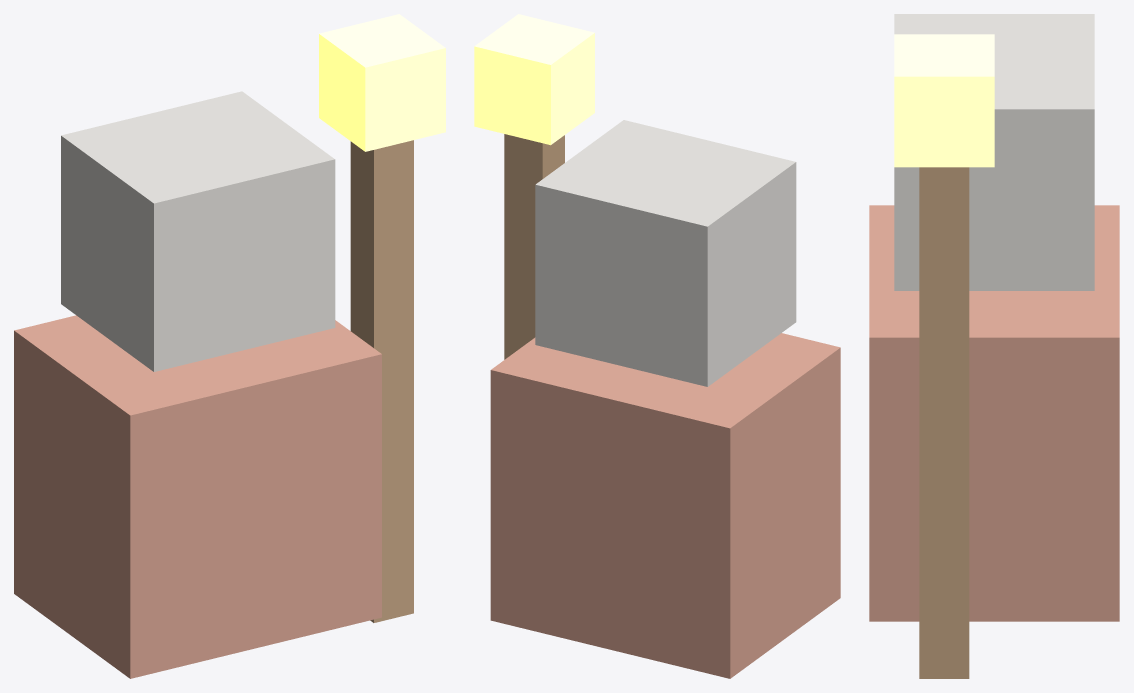
Rendered from warden.glb.
3 renders of one model, left to right at view 1: azimuth 30°, elevation 25°; view 2: azimuth 150°, elevation 25°; view 3: azimuth 270°, elevation 25°, orthographic. The views are drawn at different scales.
Parts seen in each view (by area): view 1: cloak, head, staff, lamp; view 2: cloak, head, lamp, staff; view 3: cloak, head, staff, lamp.
Boxes of the visible parts, x1,y1,x2,y2 form: cloak: [14, 315, 381, 678]; head: [61, 91, 335, 371]; staff: [350, 140, 413, 622]; lamp: [319, 14, 445, 151]; cloak: [490, 333, 840, 678]; head: [535, 120, 796, 386]; lamp: [474, 14, 594, 145]; staff: [504, 134, 564, 359]; cloak: [869, 205, 1119, 621]; head: [894, 14, 1094, 290]; staff: [919, 167, 969, 678]; lamp: [894, 34, 994, 167].
Bounding box in the file's own units: 0.65 × 1.08 × 0.4.
